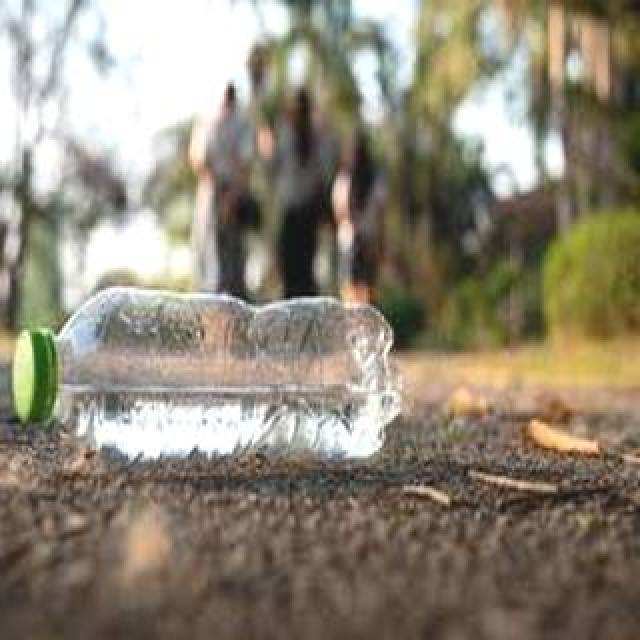Pet_Bottle: (16, 293, 398, 469)
